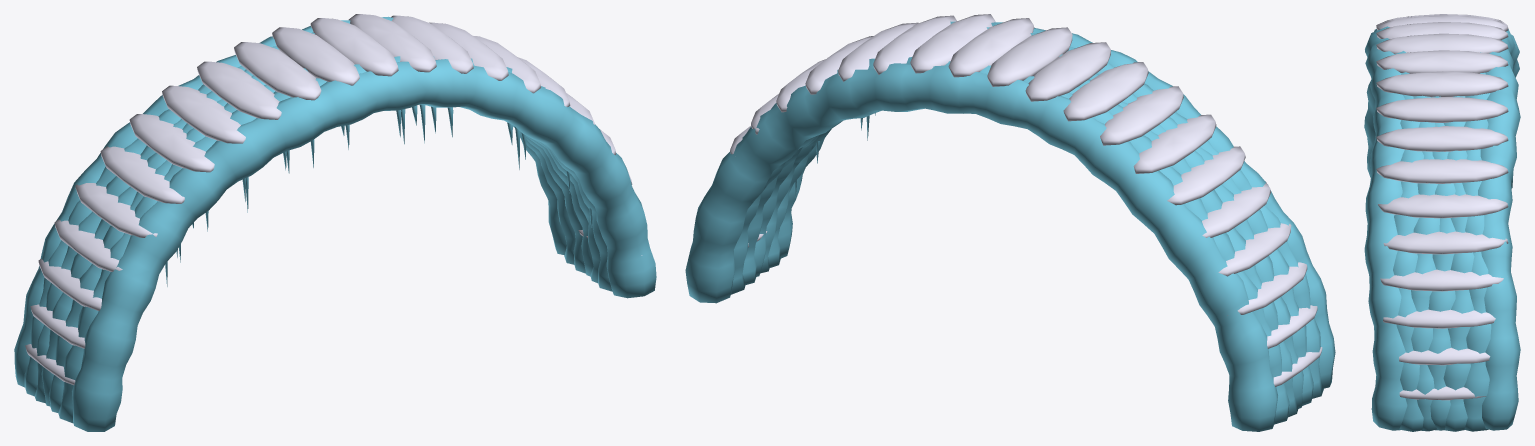
The model's file is ice-bridge.glb.
3 views of the same model, side by side, from view 1: azimuth 30°, elevation 25°; view 2: azimuth 150°, elevation 25°; view 3: azimuth 270°, elevation 25° (orthographic). The views are drawn at different scales.
Visible parts, largest first — view 1: Frozen arch rib.006, Frozen arch rib, Frozen arch rib.005, Frozen arch rib.001, Frozen arch rib.004, Frozen arch rib.002, Frozen arch rib.003, Granulated snow crown.009, Granulated snow crown.008, Granulated snow crown.010, Granulated snow crown.007, Granulated snow crown.011 (+10 smaller); view 2: Frozen arch rib, Frozen arch rib.006, Frozen arch rib.001, Frozen arch rib.005, Frozen arch rib.002, Frozen arch rib.004, Frozen arch rib.003, Granulated snow crown.009, Granulated snow crown.010, Granulated snow crown.008, Granulated snow crown.007, Granulated snow crown.011 (+10 smaller); view 3: Frozen arch rib.006, Frozen arch rib, Frozen arch rib.001, Frozen arch rib.005, Frozen arch rib.002, Frozen arch rib.004, Frozen arch rib.003, Granulated snow crown.013, Granulated snow crown.012, Granulated snow crown.014, Granulated snow crown.015, Granulated snow crown.011 (+10 smaller).
Boxes of the visible parts, x1,y1,x2,y2 form: Frozen arch rib.006: [72, 59, 656, 431]; Frozen arch rib: [14, 16, 566, 387]; Frozen arch rib.005: [58, 56, 612, 423]; Frozen arch rib.001: [24, 32, 575, 396]; Frozen arch rib.004: [49, 68, 600, 412]; Frozen arch rib.002: [34, 69, 585, 403]; Frozen arch rib.003: [41, 75, 593, 406]; Granulated snow crown.009: [234, 42, 321, 100]; Granulated snow crown.008: [197, 61, 281, 119]; Granulated snow crown.010: [272, 27, 359, 85]; Granulated snow crown.007: [162, 85, 245, 143]; Granulated snow crown.011: [310, 18, 398, 76]; Frozen arch rib: [685, 63, 1277, 431]; Frozen arch rib.006: [778, 21, 1335, 388]; Frozen arch rib.001: [731, 57, 1289, 424]; Frozen arch rib.005: [768, 27, 1323, 398]; Frozen arch rib.002: [742, 86, 1298, 417]; Frozen arch rib.004: [760, 54, 1313, 405]; Frozen arch rib.003: [754, 79, 1303, 408]; Granulated snow crown.009: [1025, 42, 1111, 101]; Granulated snow crown.010: [987, 27, 1072, 86]; Granulated snow crown.008: [1063, 62, 1148, 121]; Granulated snow crown.007: [1100, 86, 1183, 145]; Granulated snow crown.011: [948, 18, 1034, 77]; Frozen arch rib.006: [1364, 26, 1407, 430]; Frozen arch rib: [1478, 29, 1520, 430]; Frozen arch rib.001: [1462, 52, 1491, 431]; Frozen arch rib.005: [1393, 51, 1423, 431]; Frozen arch rib.002: [1443, 96, 1474, 431]; Frozen arch rib.004: [1411, 95, 1439, 431]; Frozen arch rib.003: [1427, 96, 1455, 430]; Granulated snow crown.013: [1376, 97, 1508, 122]; Granulated snow crown.012: [1376, 71, 1508, 96]; Granulated snow crown.014: [1376, 126, 1508, 151]; Granulated snow crown.015: [1376, 159, 1508, 183]; Granulated snow crown.011: [1376, 50, 1508, 73].
Size of the model in its own units: 16.24 by 7.86 by 4.25.
